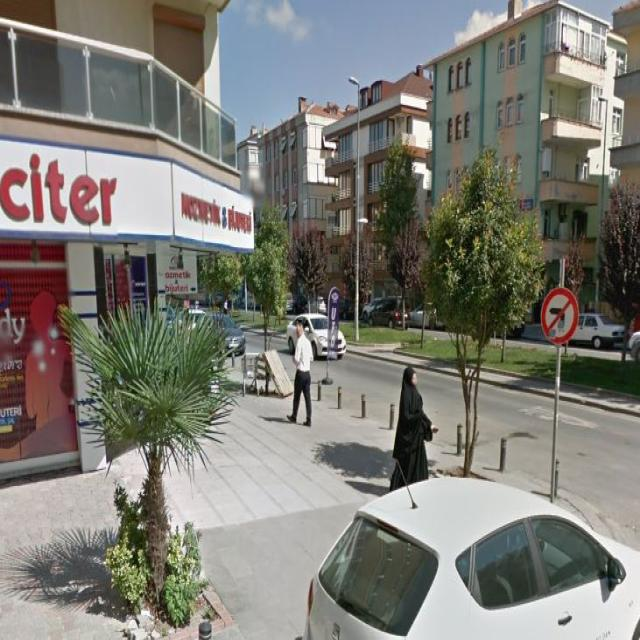soladonulmez: (540, 288, 579, 345)
